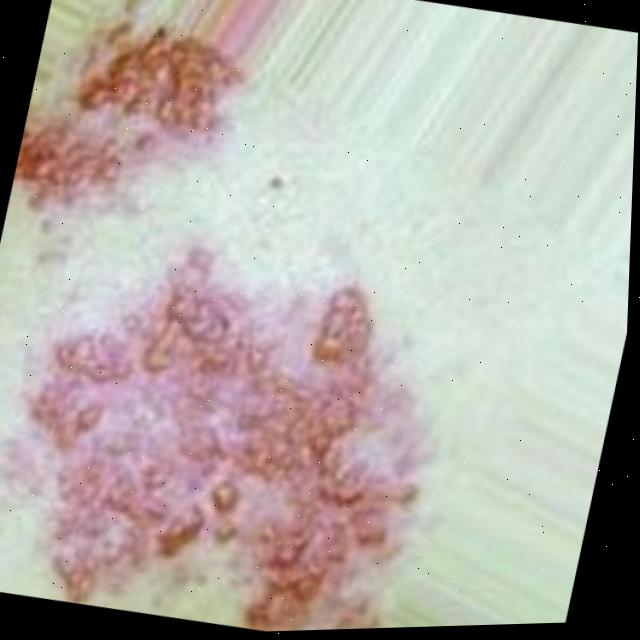Shingles: (5, 219, 472, 639), (11, 0, 253, 221)
